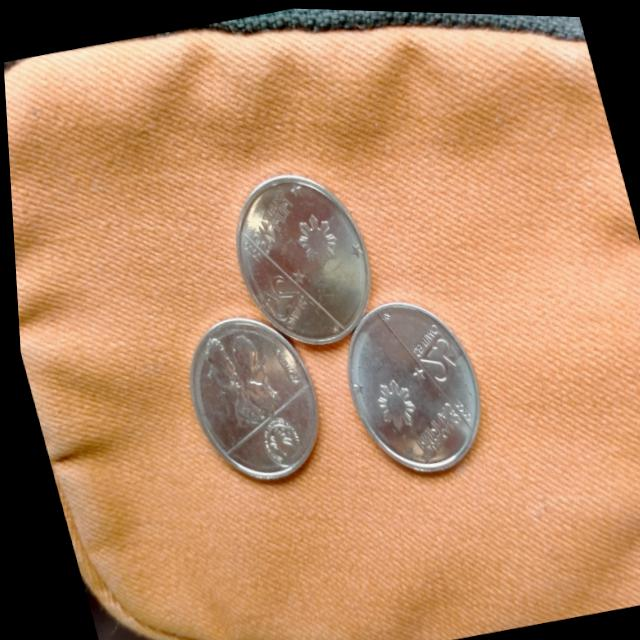25Cent_New_Back: (192, 324, 288, 427)
25Cent_New_Front: (402, 319, 464, 387), (253, 265, 316, 329)
